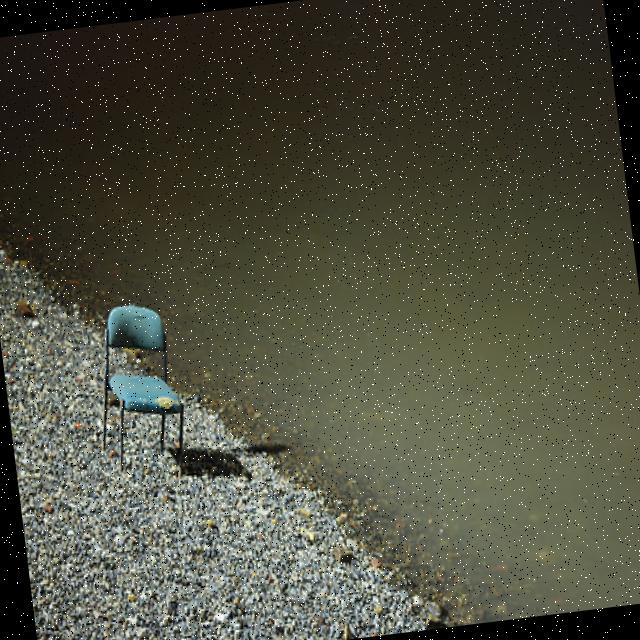Chair: (82, 290, 190, 483)
